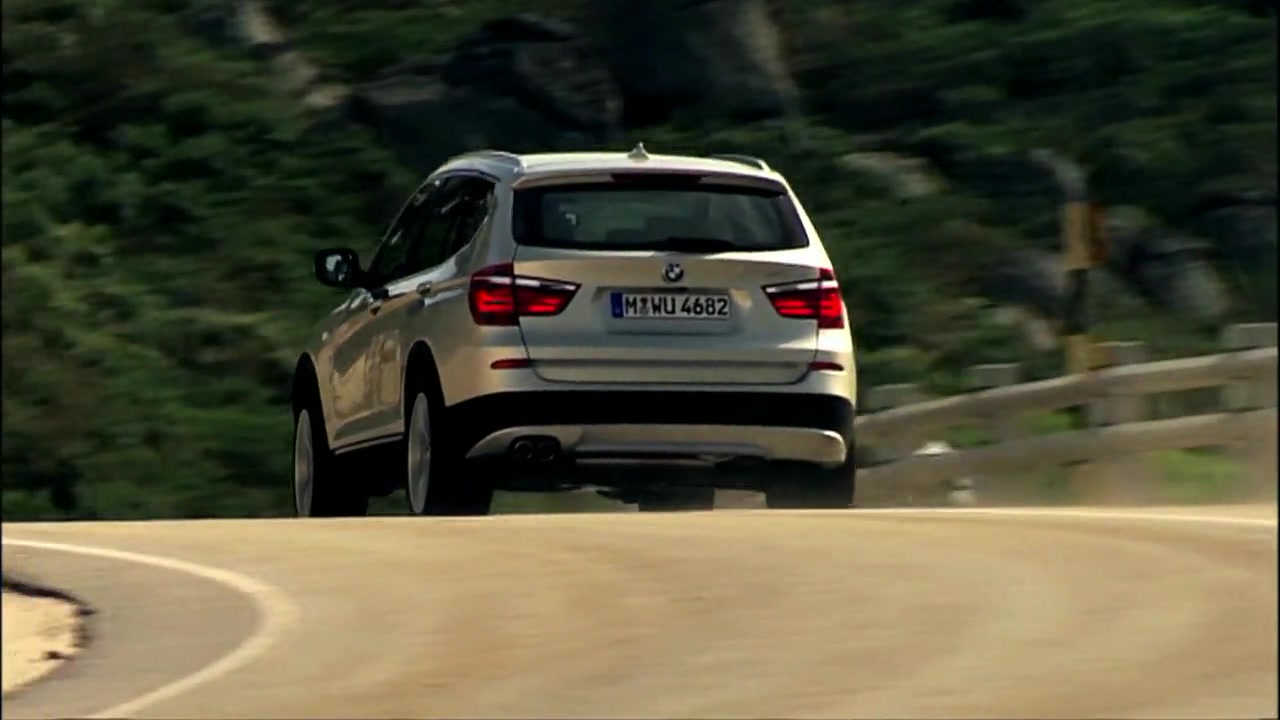car: (286, 146, 866, 515)
